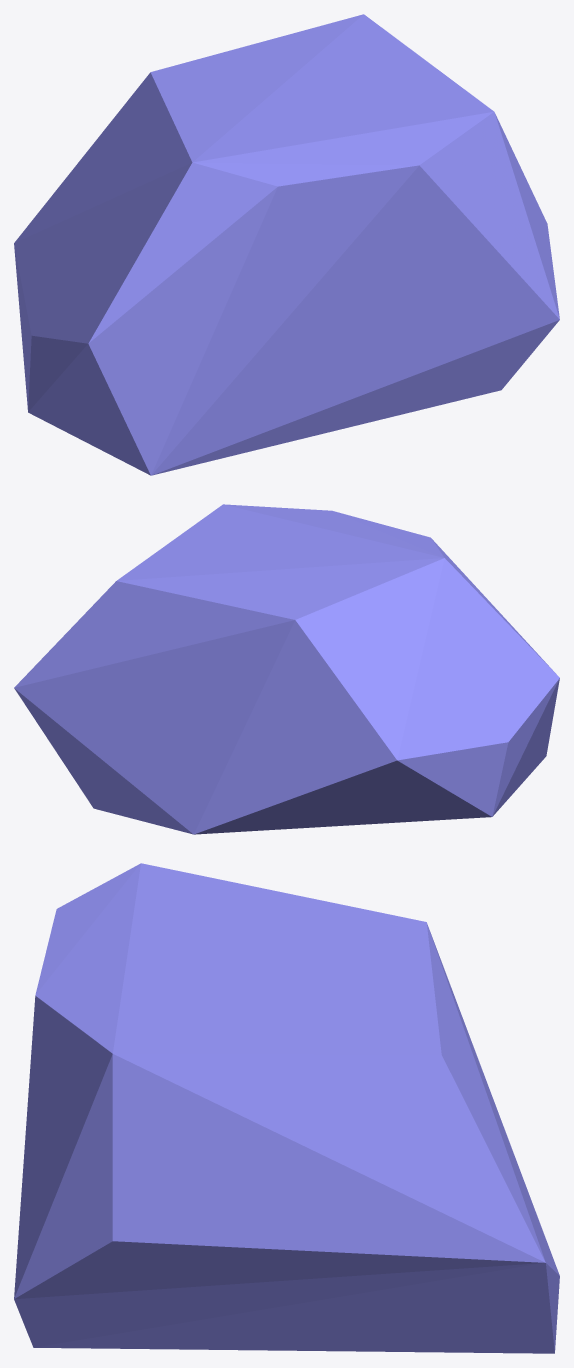
Rendered from Rock_08_Collider_01.FBX.
The picture shows the model from 3 angles, top to bottom: view 1: azimuth 30°, elevation 25°; view 2: azimuth 150°, elevation 25°; view 3: azimuth 270°, elevation 25°; orthographic projection. The views are drawn at different scales.
Visible parts, largest first — view 1: COLLIDER1; view 2: COLLIDER1; view 3: COLLIDER1.
Part boxes in pixels (<box>): COLLIDER1: <box>14,14,559,475</box>; COLLIDER1: <box>14,504,559,834</box>; COLLIDER1: <box>14,863,559,1353</box>.
Bounding box in the file's own units: 33.48 × 16.55 × 25.3.
